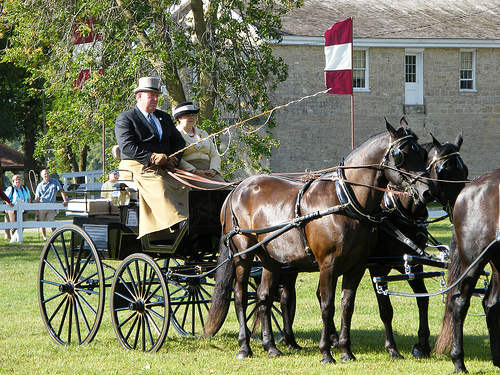horse: (210, 116, 434, 363), (362, 125, 471, 360), (440, 166, 500, 374)
